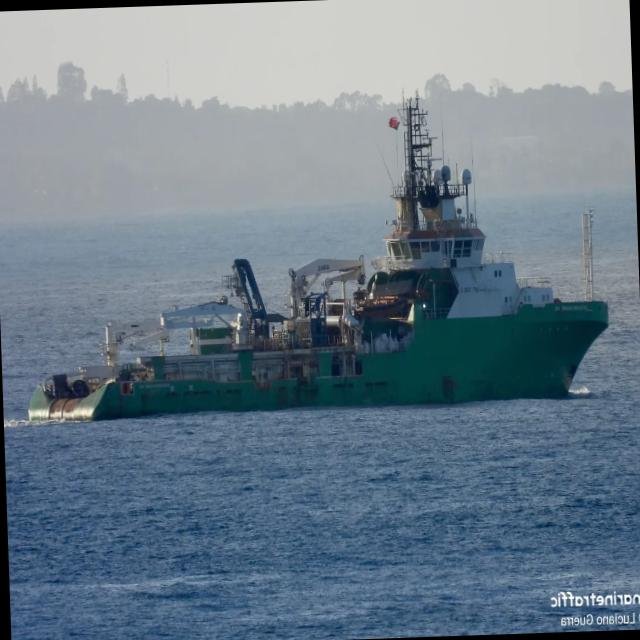Offshore: (29, 96, 607, 420)
